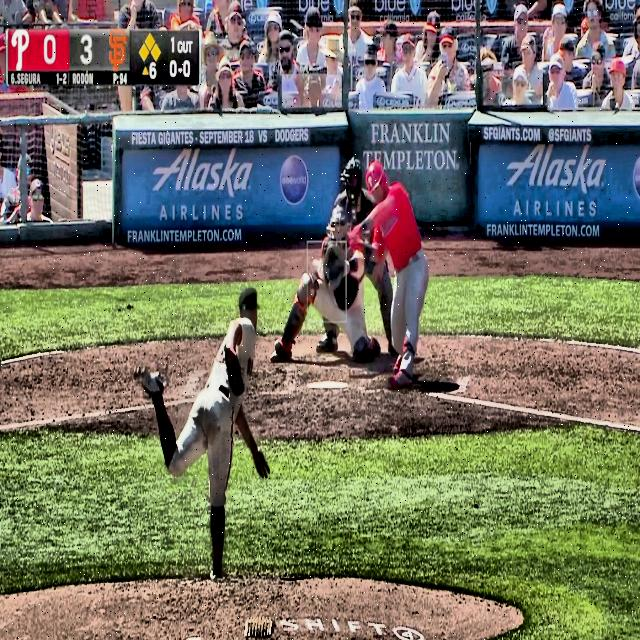baseball: (312, 258, 319, 268)
